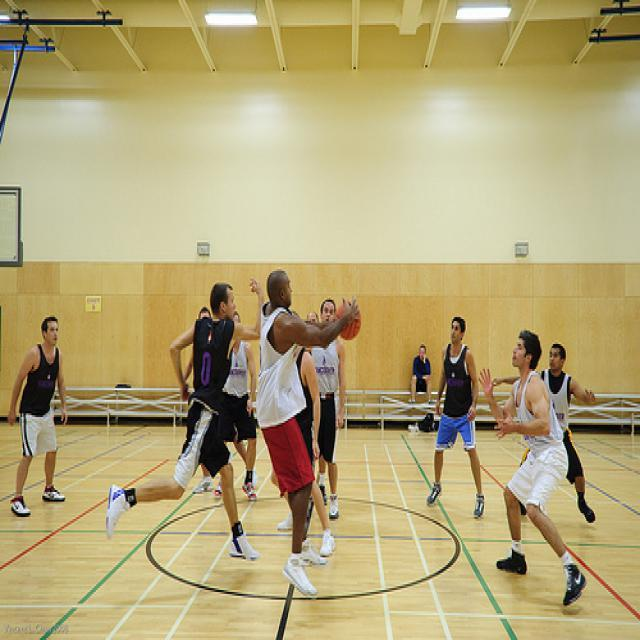basketball: (336, 304, 362, 339)
